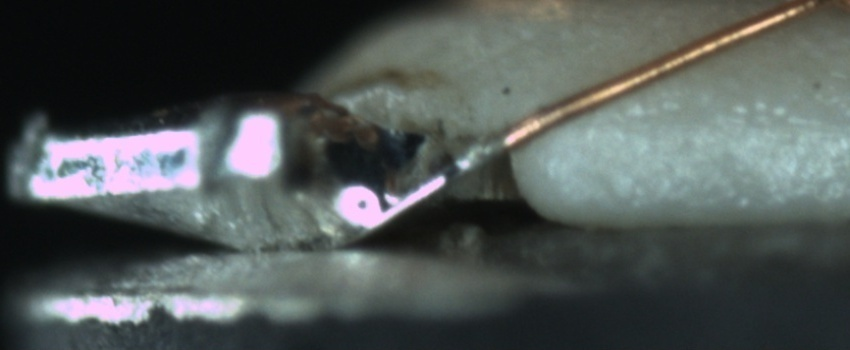CL: (776, 0, 847, 20)
DL: (605, 87, 849, 157)
